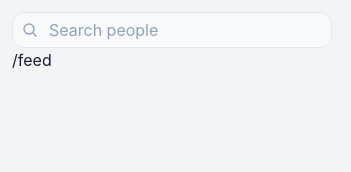
Scenario: UserSearch › shows no irrelevant results for an empty query and a clear no-match state
Click the dropdown labelled "Search people".
click(172, 30)  # box [12,12,332,48]
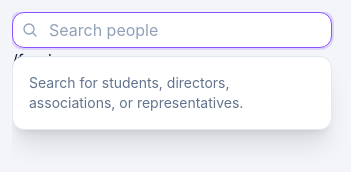
Expected: the message shows "Search for students", [29,74,243,111]
Type "nobody by this name" into the dropdown labelled "Search people".
click(172, 30); type("nobody by this name")  # box [12,12,332,48]
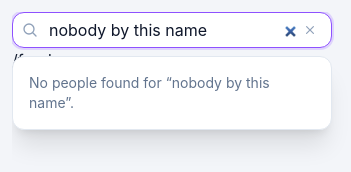
Expected: the message shows "No people found", [29,74,172,91]
